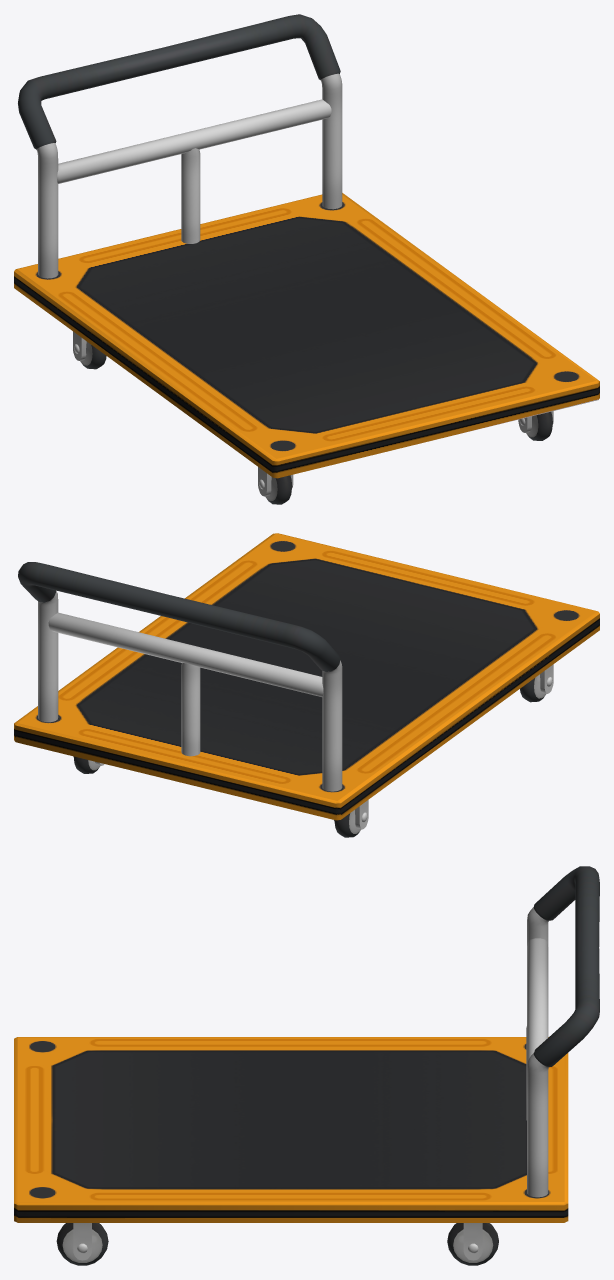
The model's file is Cart.FBX.
The picture shows the model from 3 angles, top to bottom: view 1: azimuth 30°, elevation 25°; view 2: azimuth 150°, elevation 25°; view 3: azimuth 270°, elevation 25°; orthographic projection. The views are drawn at different scales.
Parts seen in each view (by area): view 1: Object013; view 2: Object013; view 3: Object013.
Boxes of the visible parts, bbox=[...] form: Object013: bbox=[14, 14, 599, 504]; Object013: bbox=[14, 533, 599, 837]; Object013: bbox=[14, 866, 599, 1265].
Size of the model in its own units: 19.92 by 29.3 by 14.48.
